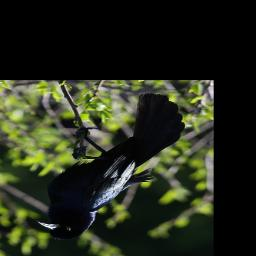Crow: (36, 94, 185, 241)
